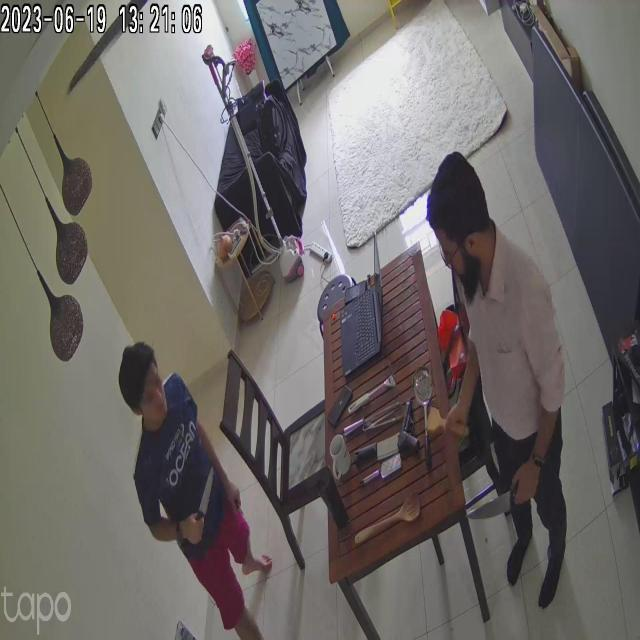Knife: (193, 466, 230, 546), (468, 479, 522, 527)
